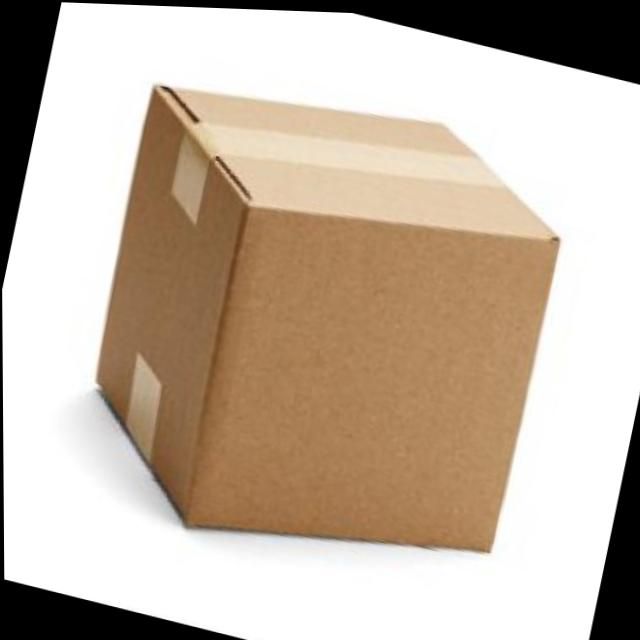box: (58, 52, 588, 609)
